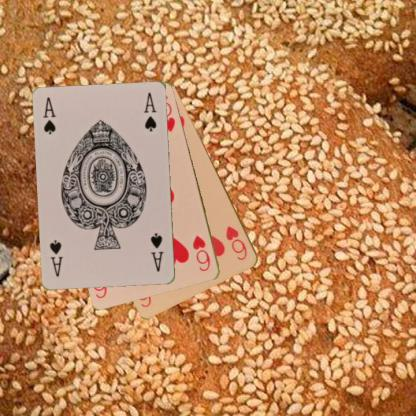6h: (223, 224, 249, 262), (190, 233, 212, 273)
As: (148, 230, 166, 274), (41, 95, 57, 136)
